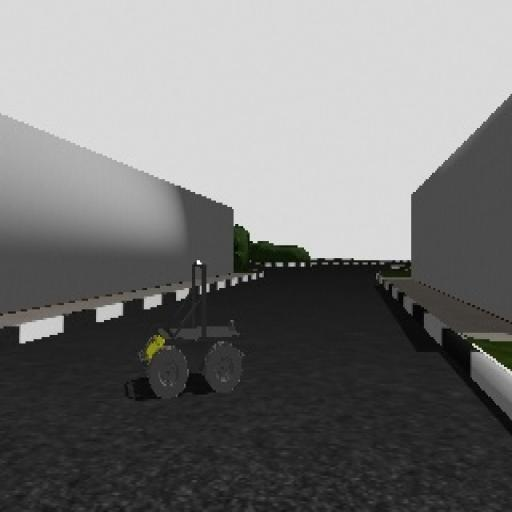huskya200: (131, 248, 254, 410)
